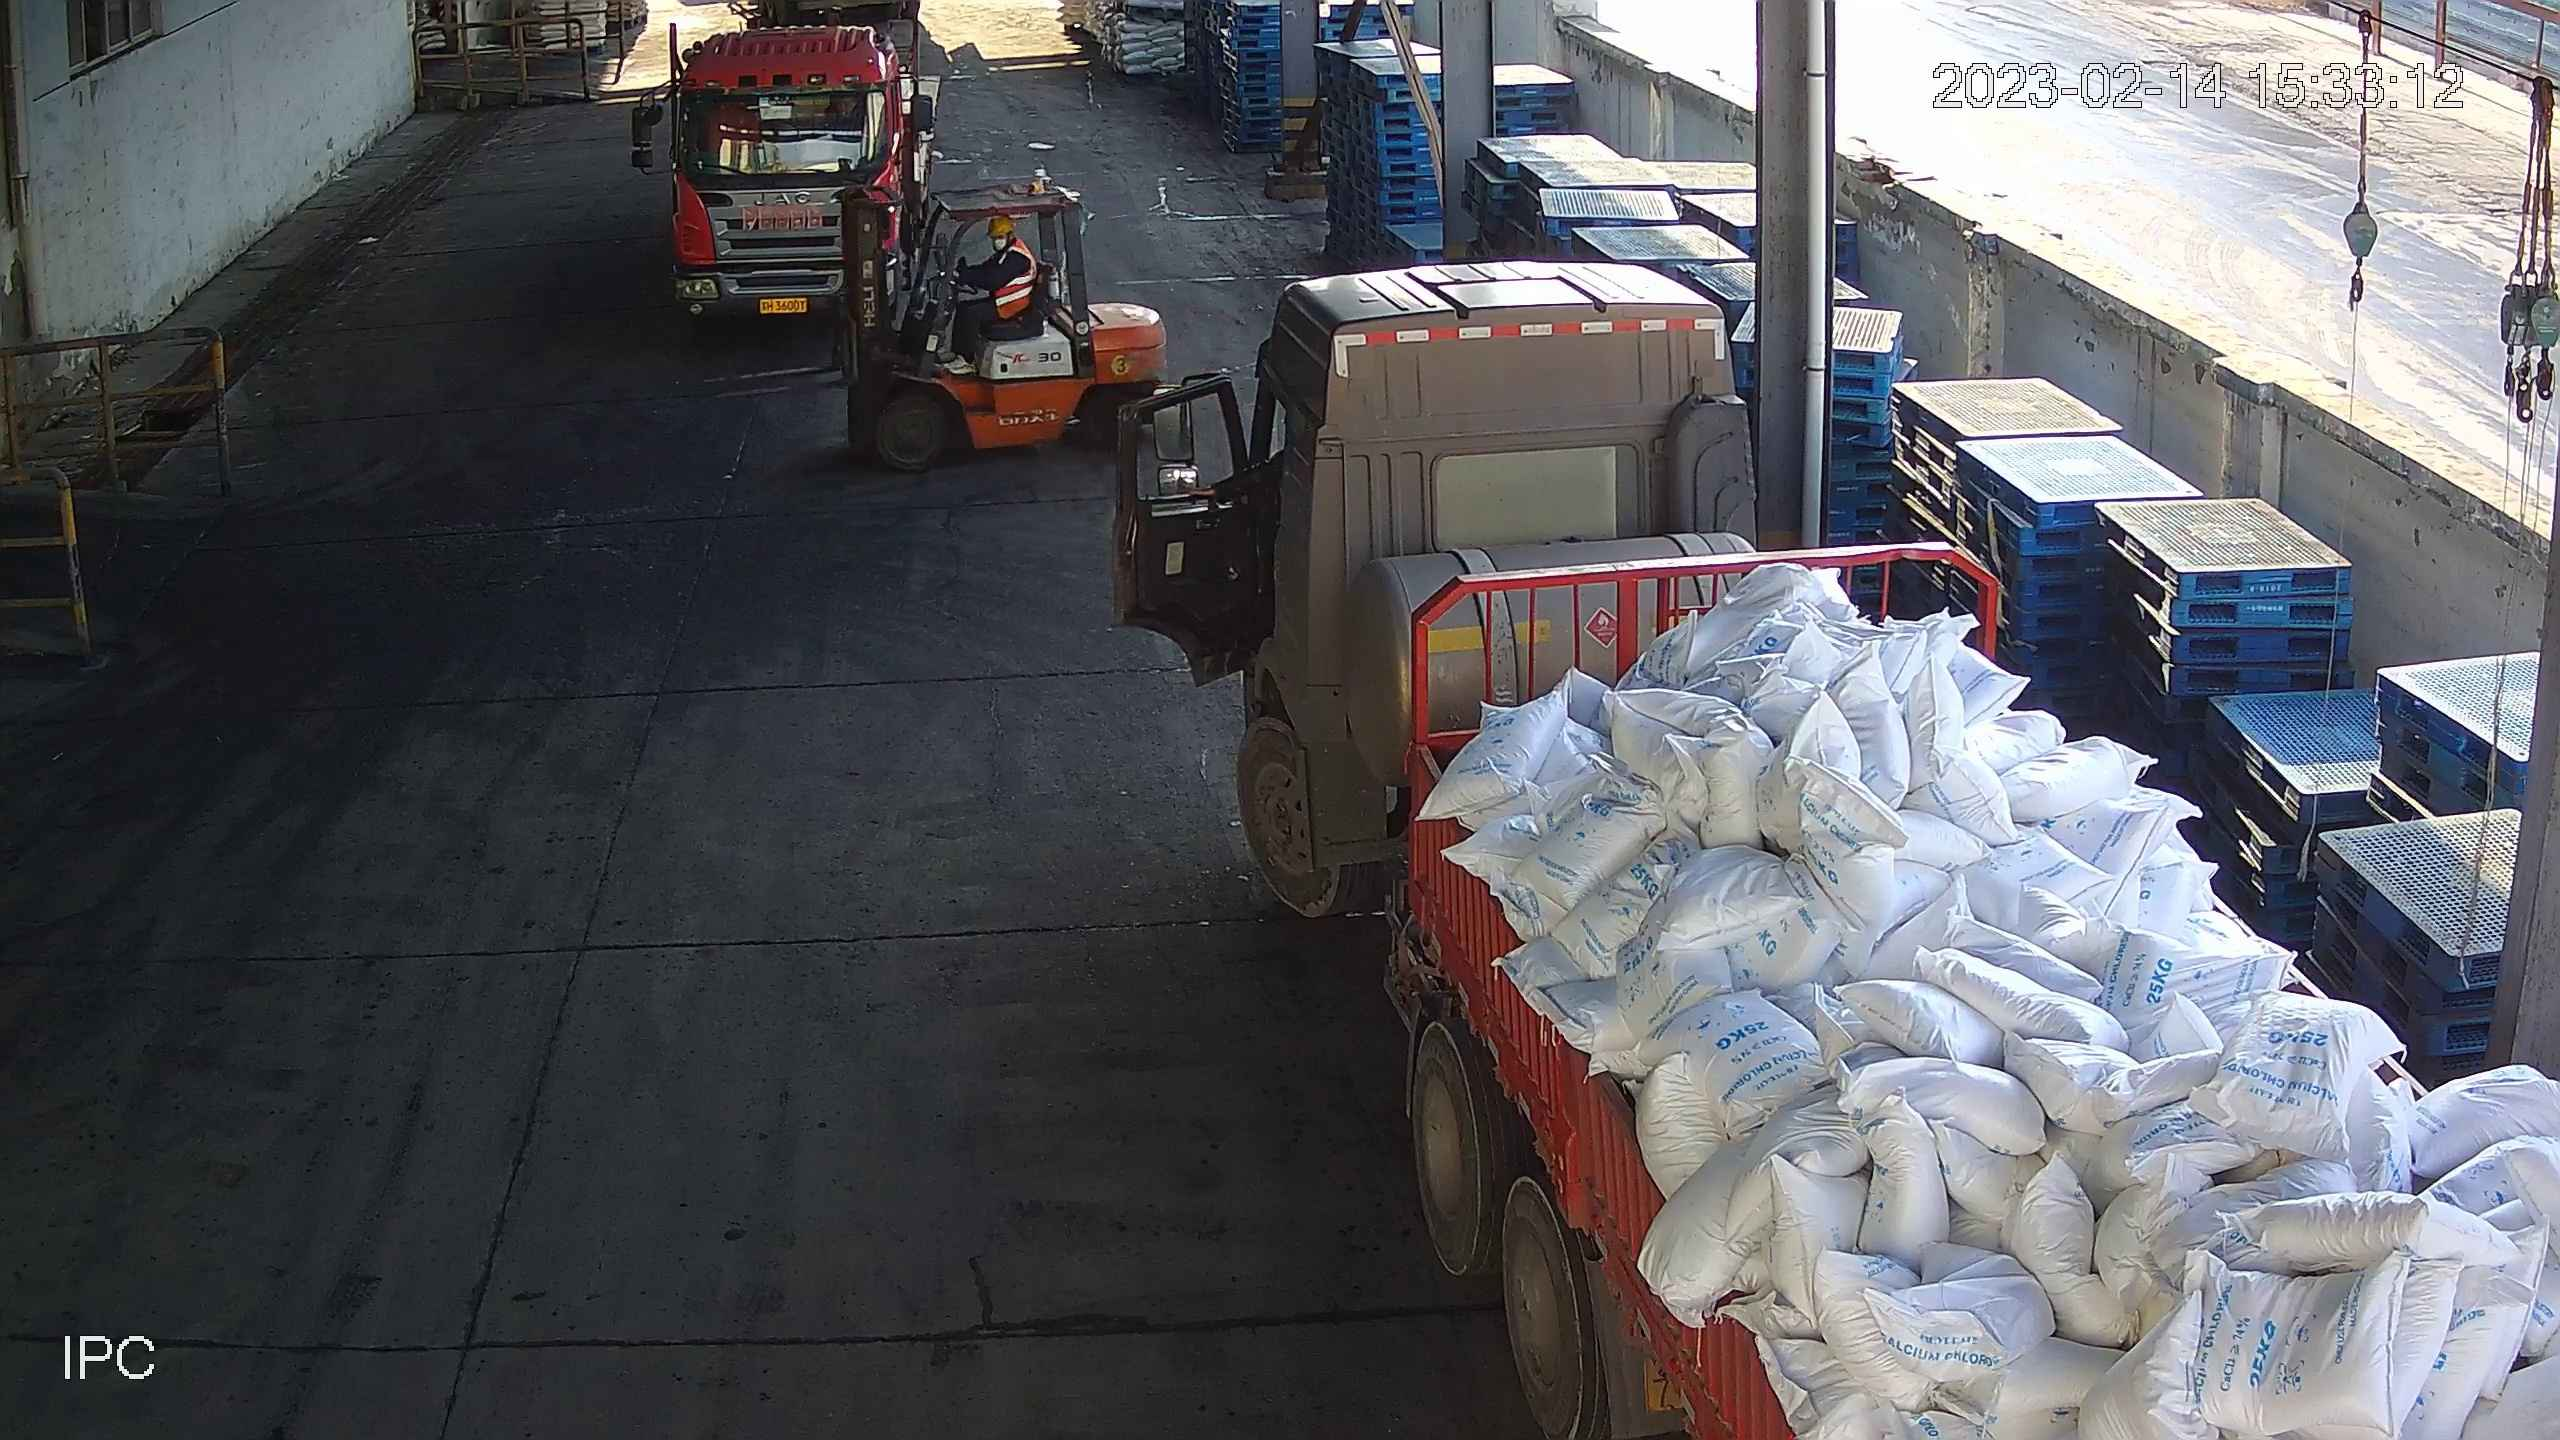head: (983, 218, 1048, 284)
helmet: (985, 218, 1020, 242)
people: (950, 218, 1046, 345)
truck: (1157, 264, 2560, 1440), (630, 1, 929, 323)
